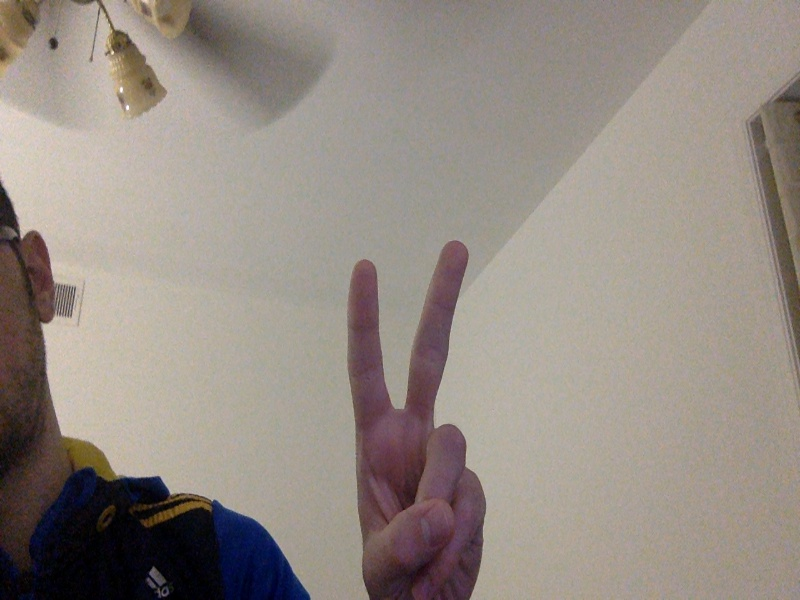2-hand: (349, 241, 485, 600)
